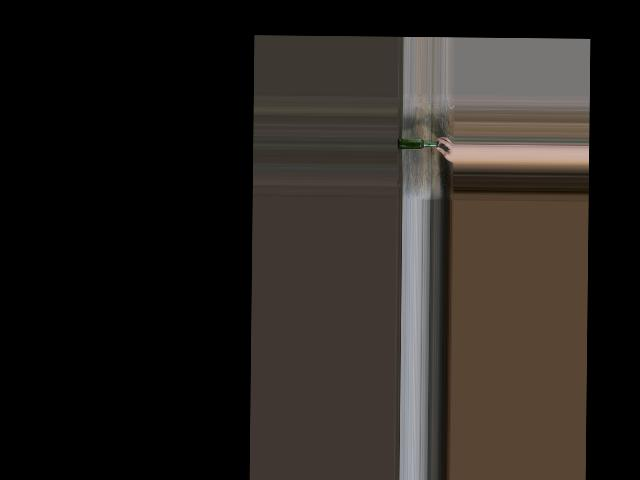beer: (397, 138, 439, 149)
